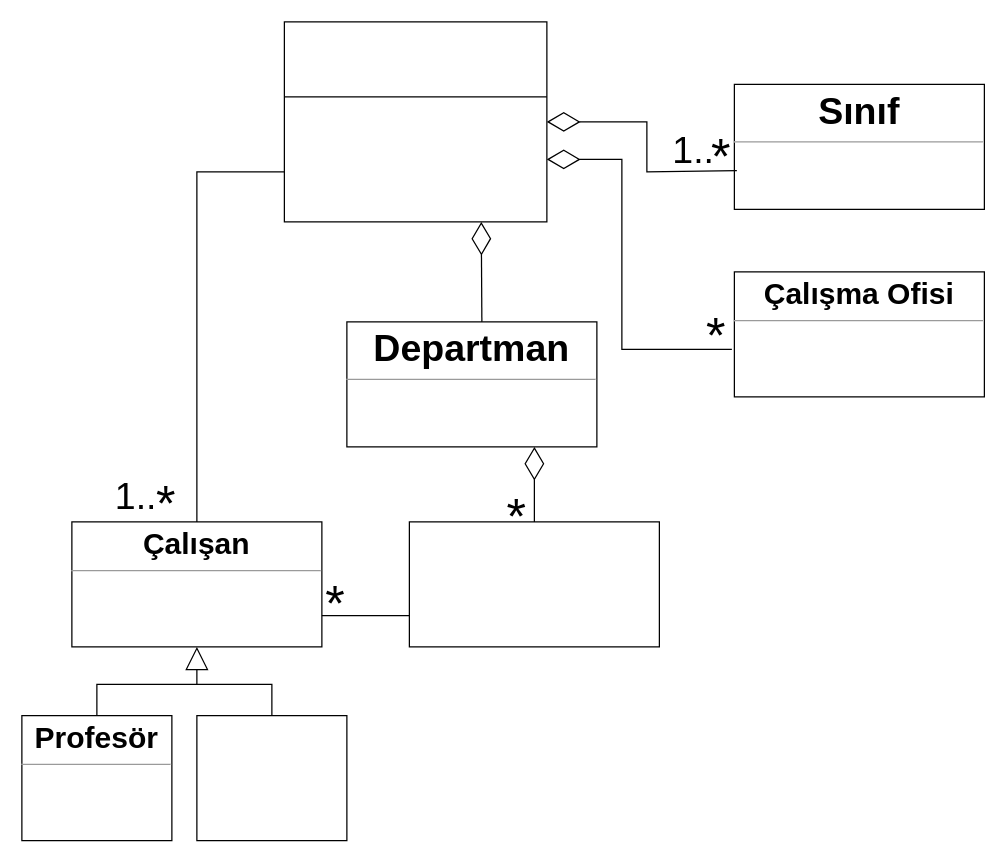
Some shapes in this 1006 by 863 pixel diagram are drawn without their labels. Here are the shapes that lost their labels. From the top down, the centre of each, then its label:
At pixel 415 121: "Üniversite".
At pixel 533 584: "Ofis".
At pixel 271 777: "Memur".
